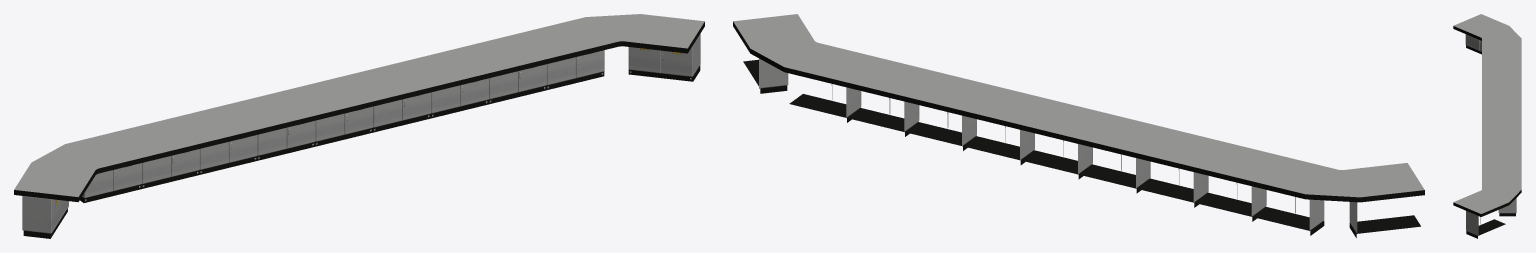
File: Table.glb
3 views of the same model, side by side, from view 1: azimuth 30°, elevation 25°; view 2: azimuth 150°, elevation 25°; view 3: azimuth 270°, elevation 25° (orthographic). The views are drawn at different scales.
Parts seen in each view (by area): view 1: Rectangle001, ShkafUnderTable009 (×3), Rectangle002, Line001, ShkafUnderTable003, ShkafUnderTable005, ShkafUnderTable004, ShkafUnderTable001, ShkafUnderTable002, ShkafUnderTable007, ShkafUnderTable008, ShkafUnderTable006; view 2: Rectangle001, Rectangle002, ShkafUnderTable009 (×3), Line001, ShkafUnderTable007, ShkafUnderTable002, ShkafUnderTable001, ShkafUnderTable008, ShkafUnderTable006, ShkafUnderTable004, ShkafUnderTable005, ShkafUnderTable003; view 3: Rectangle001, Rectangle002, ShkafUnderTable009 (×2), Line001, ShkafUnderTable008.
Part boxes in pixels (x1,y1,x2,y2): Rectangle001: (65,17,618,173); ShkafUnderTable009 (×3): (22,33,700,238); Rectangle002: (14,14,704,202); Line001: (32,14,640,174); ShkafUnderTable003: (257,120,315,160); ShkafUnderTable005: (373,92,431,132); ShkafUnderTable004: (315,106,373,146); ShkafUnderTable001: (141,149,199,188); ShkafUnderTable002: (199,135,257,174); ShkafUnderTable007: (488,64,546,104); ShkafUnderTable008: (546,50,604,89); ShkafUnderTable006: (431,78,488,118); Rectangle001: (784,42,1338,198); Rectangle002: (733,14,1424,202); ShkafUnderTable009 (×3): (743,58,1420,237); Line001: (750,41,1360,202); ShkafUnderTable007: (847,98,919,136); ShkafUnderTable002: (1137,168,1208,207); ShkafUnderTable001: (1195,183,1266,221); ShkafUnderTable008: (789,84,861,122); ShkafUnderTable006: (905,112,976,150); ShkafUnderTable004: (1021,140,1092,179); ShkafUnderTable005: (963,126,1034,164); ShkafUnderTable003: (1079,154,1150,193); Rectangle001: (1482,38,1521,189); Rectangle002: (1453,14,1509,216); ShkafUnderTable009 (×2): (1465,34,1505,238); Line001: (1481,26,1521,204); ShkafUnderTable008: (1498,198,1516,216).
Bounding box in the file's own units: 14.34 × 0.9 × 2.08.
Materials: 1 (1 with a texture image).
